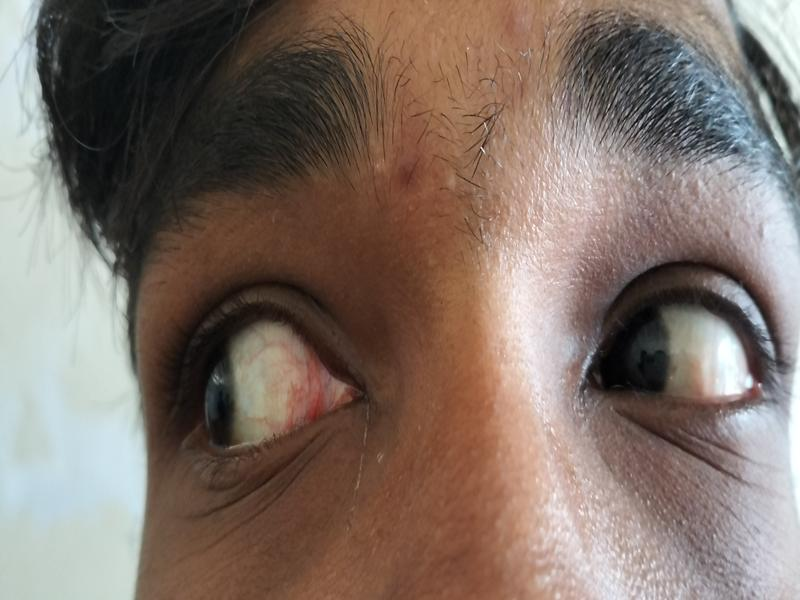EYE RIGHT: (193, 325, 349, 441), (612, 295, 766, 403)
